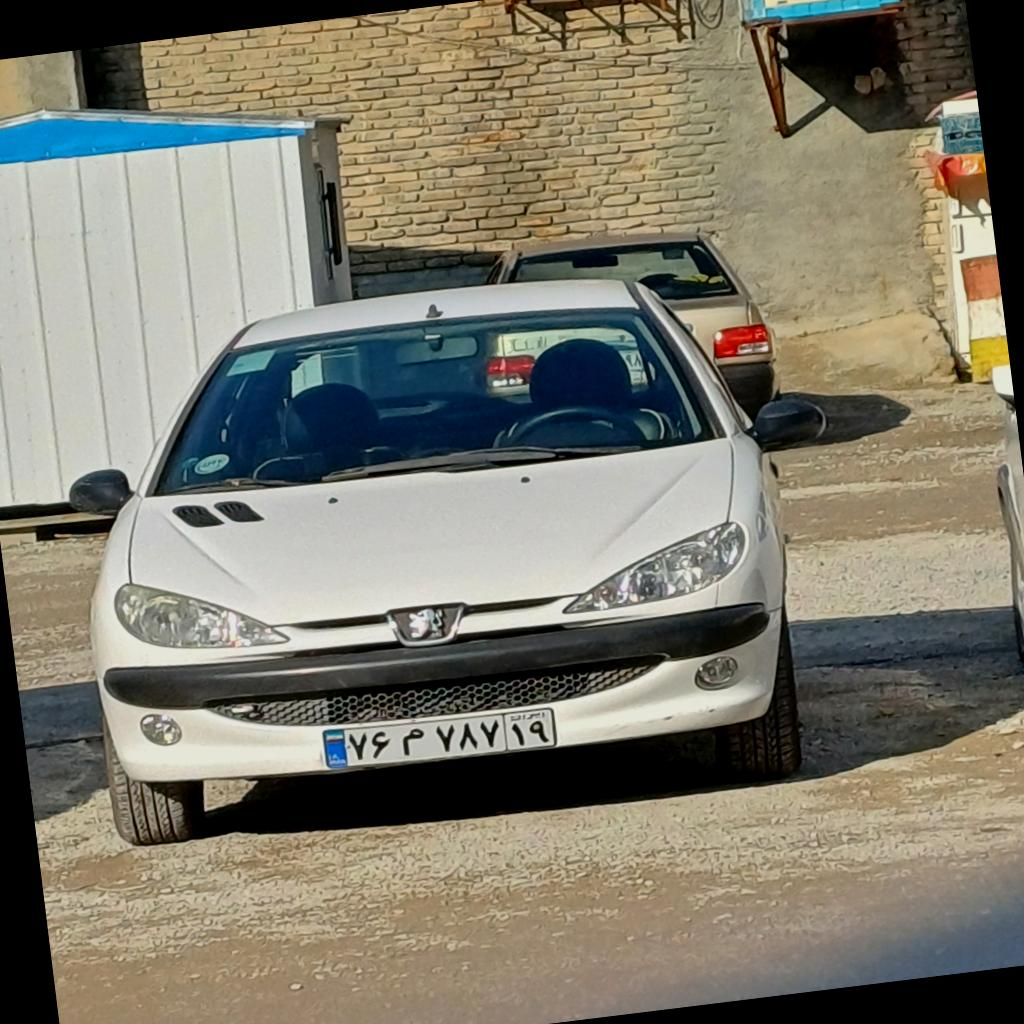Plates: (322, 702, 556, 772)
